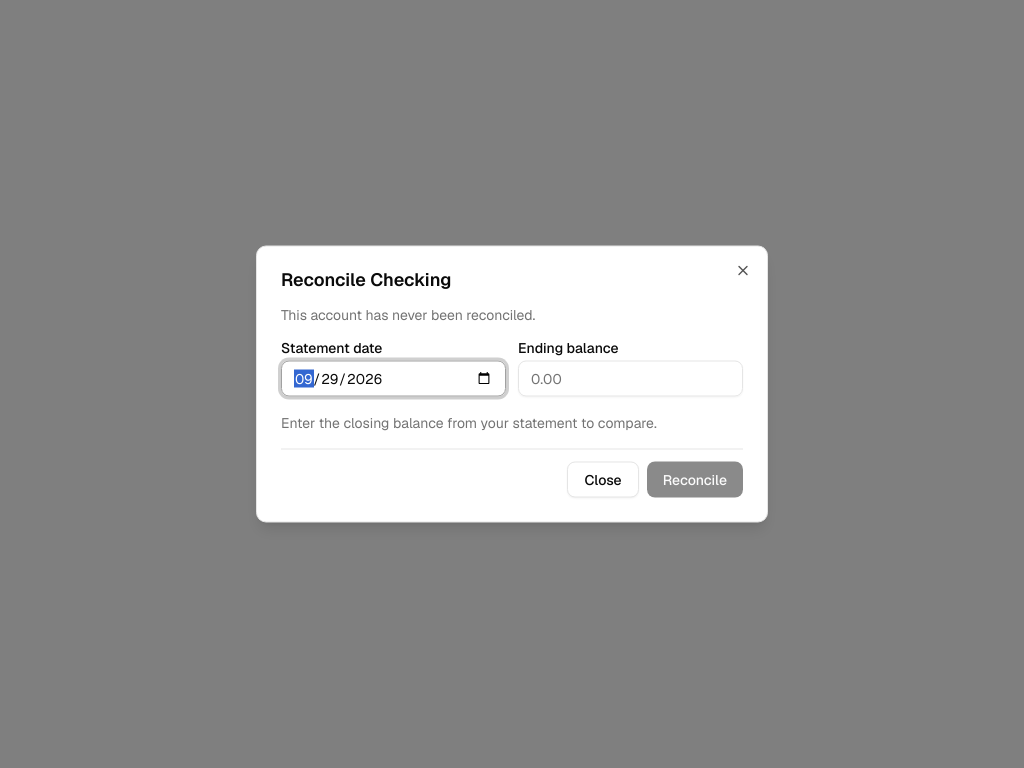
it: <ReconcileDialog /> › confirms a balanced account rather than leaving a bare zero
In the number field labelled "Ending balance": (630, 378) [518,360,743,396], type "1000.00"
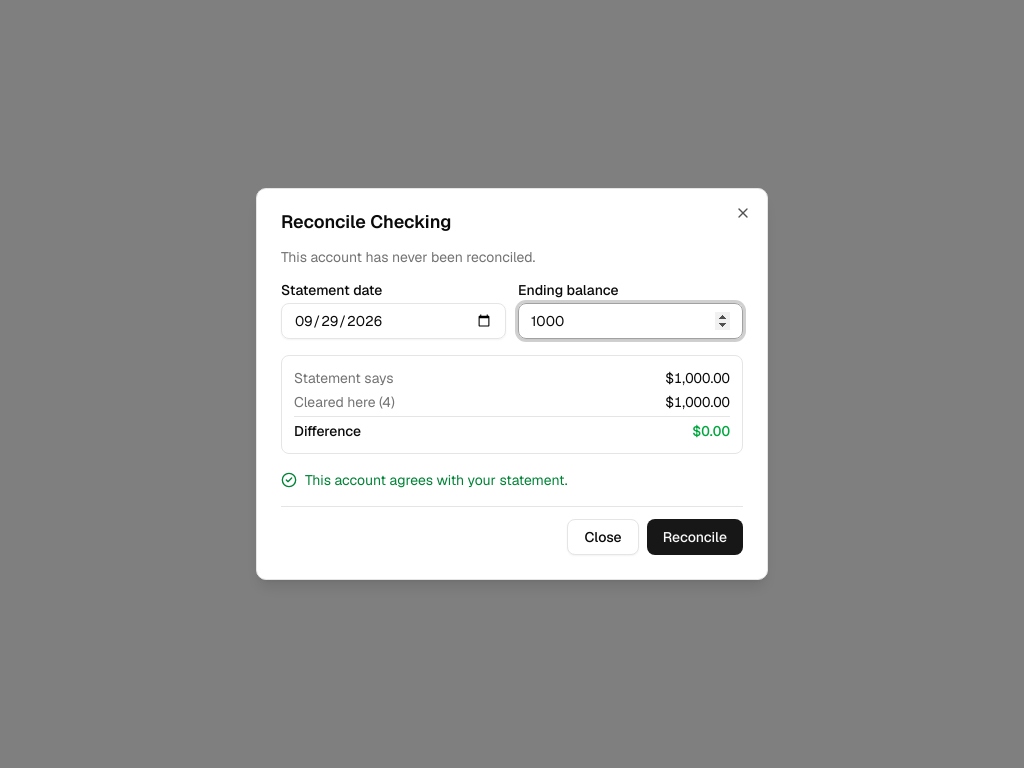
Result: the text "This account agrees with your statement." is shown at [281,471,568,489]
